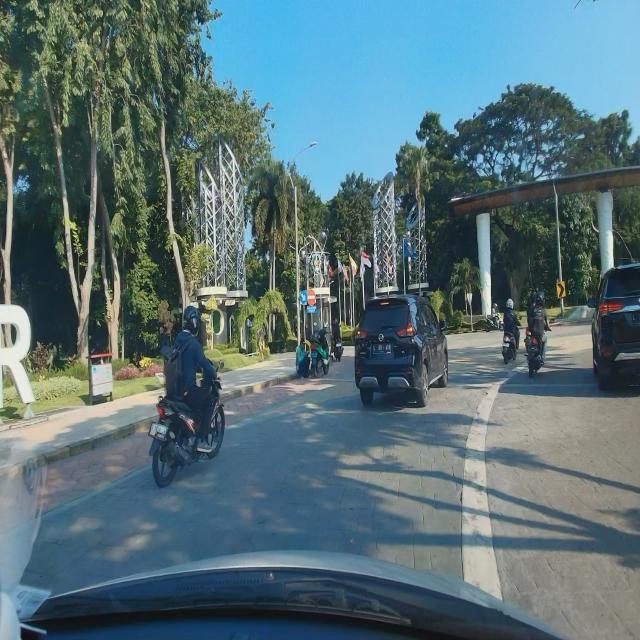car: (354, 293, 449, 409)
license-plate: (373, 343, 391, 354)
